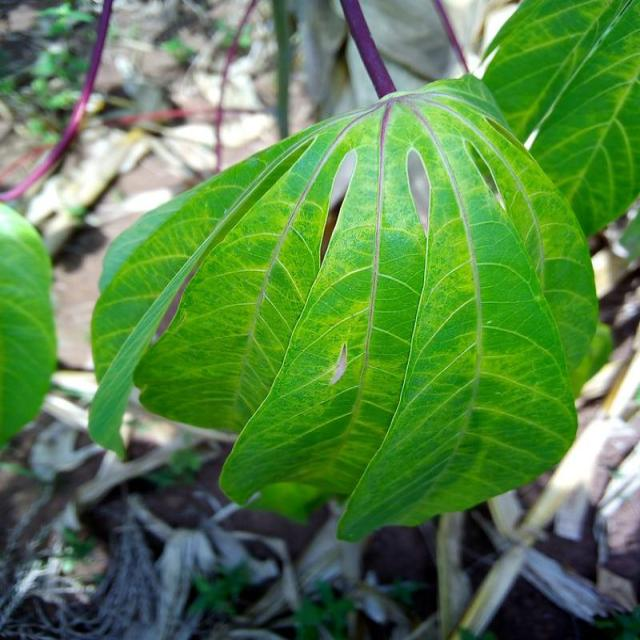cassava leaf: (88, 72, 599, 541), (0, 200, 58, 450)
